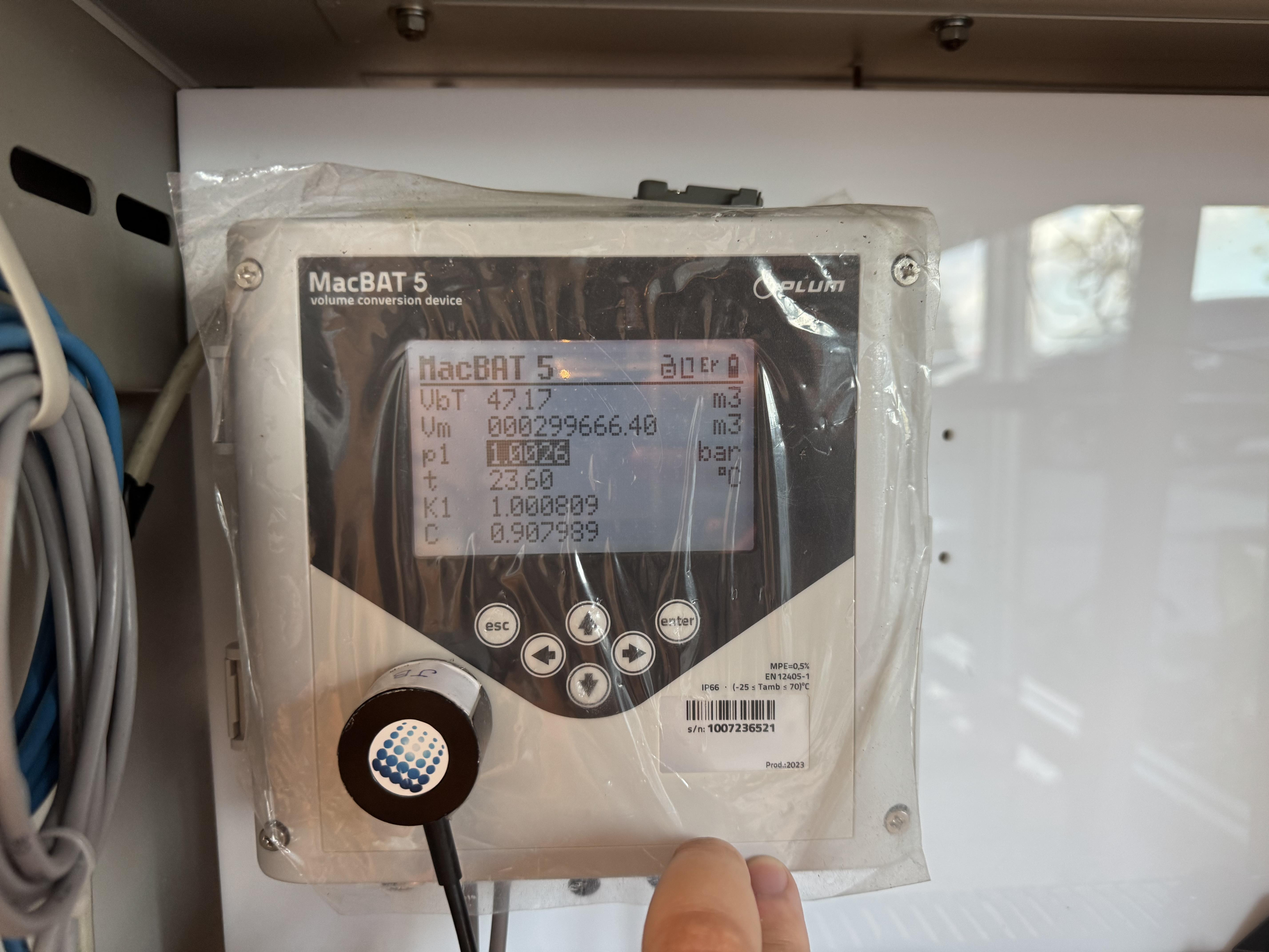digital_screen: (407, 339, 757, 556)
